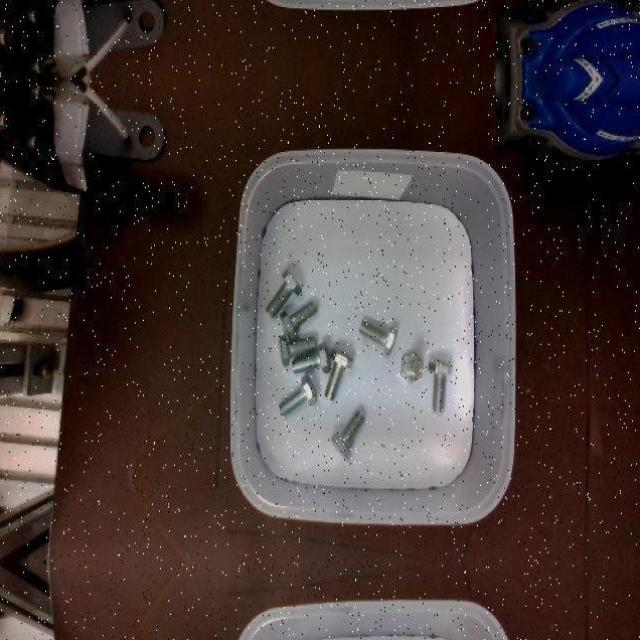screw: (266, 268, 302, 318), (330, 408, 364, 458), (279, 373, 317, 416), (280, 300, 318, 342), (324, 346, 353, 400), (358, 320, 396, 358), (428, 359, 453, 412), (292, 341, 330, 373), (279, 335, 316, 367), (400, 352, 422, 384)
